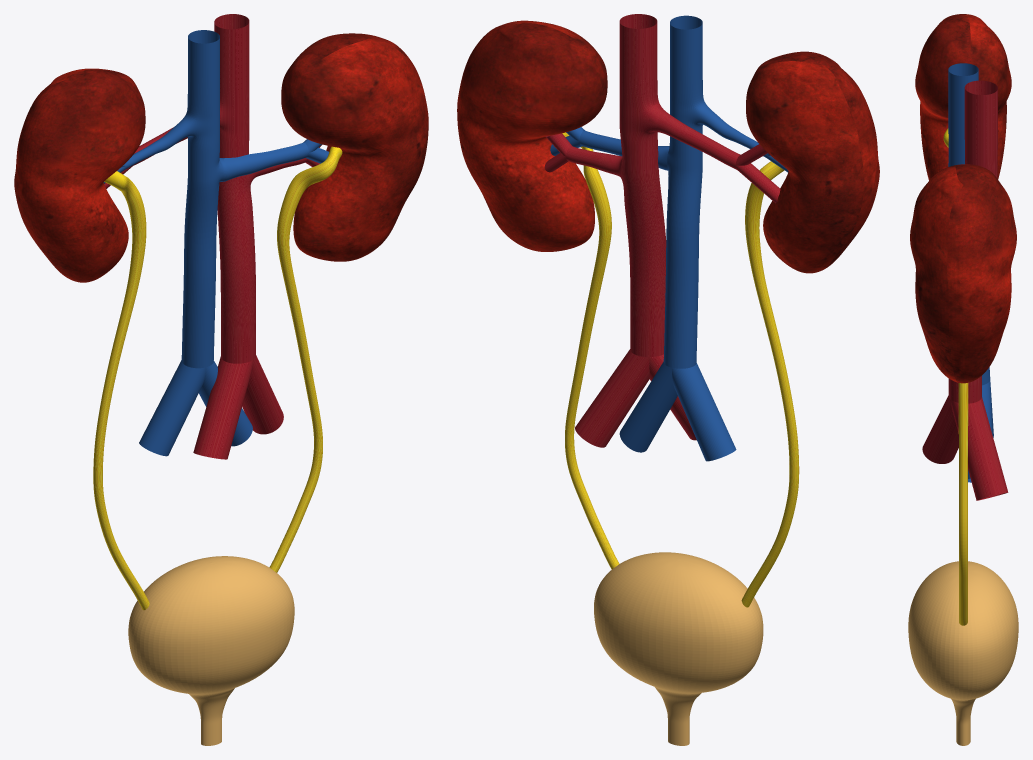
File: Lop11_Thận và nephron_Tab1_01.glb
The picture shows the model from 3 angles, left to right: view 1: azimuth 30°, elevation 25°; view 2: azimuth 150°, elevation 25°; view 3: azimuth 270°, elevation 25°; orthographic projection. The views are drawn at different scales.
Visible parts, largest first — view 1: Sphere.001_4, Sphere_3, Sphere.002_8, Cylinder.002_5, Cylinder.003_6, Cylinder_9, Cylinder.001_10; view 2: Sphere.001_4, Sphere_3, Cylinder.003_6, Sphere.002_8, Cylinder.002_5, Cylinder_9, Cylinder.001_10; view 3: Sphere.001_4, Sphere.002_8, Sphere_3, Cylinder.003_6, Cylinder.002_5, Cylinder.001_10.
Part boxes in pixels (x1,y1,x2,y2): Sphere.001_4: [281, 33, 428, 261]; Sphere_3: [14, 68, 145, 282]; Sphere.002_8: [128, 556, 294, 745]; Cylinder.002_5: [103, 30, 328, 456]; Cylinder.003_6: [104, 14, 322, 459]; Cylinder_9: [93, 171, 149, 610]; Cylinder.001_10: [269, 146, 342, 572]; Sphere.001_4: [457, 20, 607, 251]; Sphere_3: [746, 51, 879, 273]; Cylinder.003_6: [544, 14, 780, 447]; Sphere.002_8: [594, 552, 763, 745]; Cylinder.002_5: [550, 15, 788, 461]; Cylinder_9: [741, 161, 799, 607]; Cylinder.001_10: [562, 132, 619, 569]; Sphere.001_4: [910, 164, 1016, 383]; Sphere.002_8: [908, 561, 1018, 745]; Sphere_3: [915, 14, 1011, 180]; Cylinder.003_6: [922, 80, 1008, 500]; Cylinder.002_5: [948, 63, 993, 482]; Cylinder.001_10: [958, 383, 968, 625].
Bounding box in the file's own units: 9.46 × 15.84 × 2.37.
Materials: 7 (6 with a texture image).
